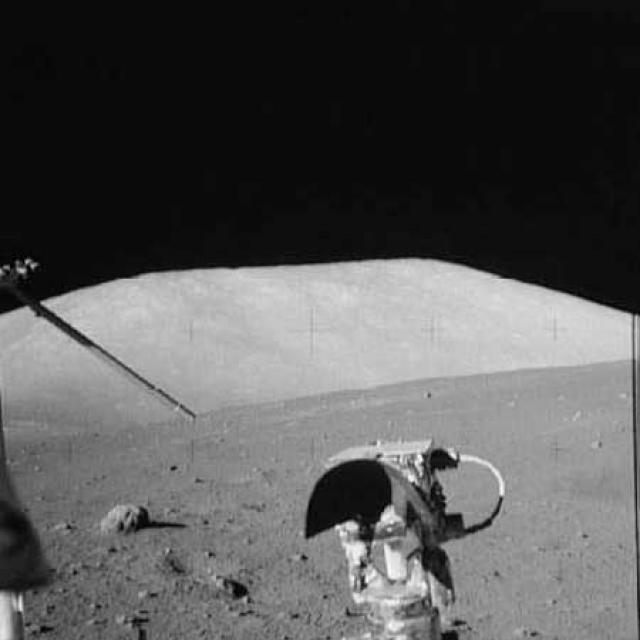artifact: (299, 434, 515, 638), (1, 253, 200, 432), (0, 432, 59, 639)
rock: (97, 498, 153, 537)
